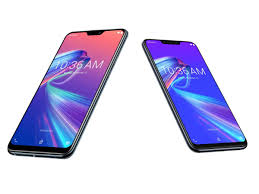asus: (4, 23, 129, 161), (136, 33, 248, 155)
